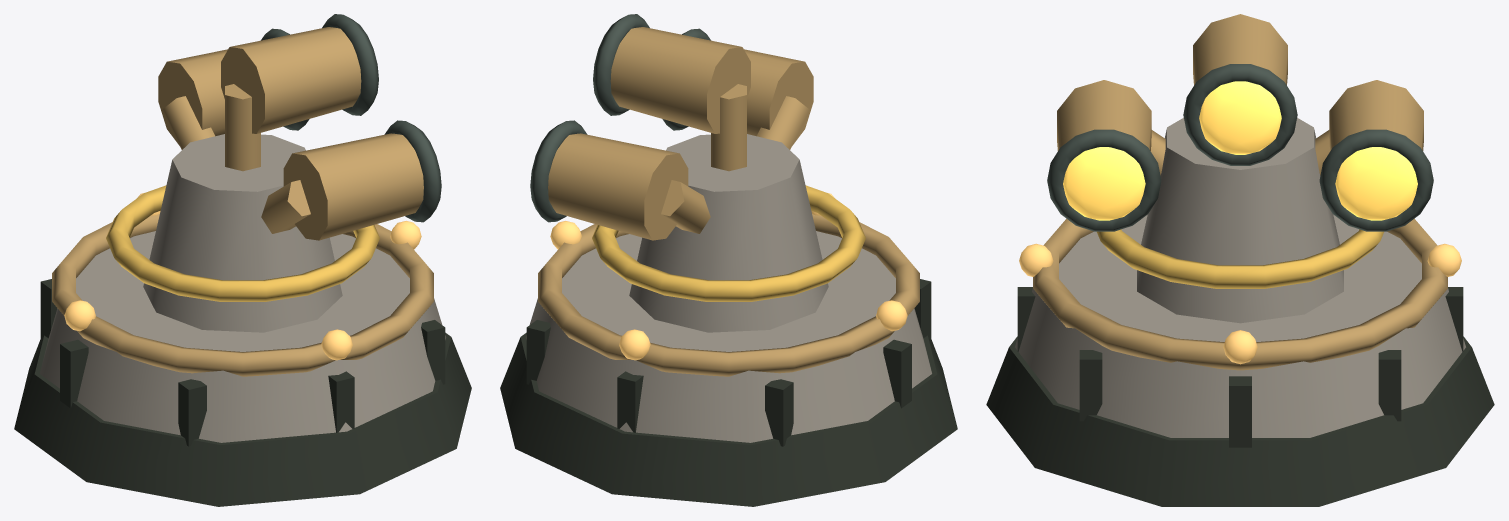
File: tower_laser_laserDouble_ultimate.glb
The picture shows the model from 3 angles, left to right: view 1: azimuth 30°, elevation 25°; view 2: azimuth 150°, elevation 25°; view 3: azimuth 270°, elevation 25°; orthographic projection. The views are drawn at different scales.
Visible parts, largest first — view 1: stone_1, foot_0, column_15, rim_2, lens_housing_17, lens_housing_21, energized_base_28, lens_housing_25, lens_arm_20, focus_ring_18, focus_ring_22, lens_arm_16 (+9 smaller); view 2: stone_1, foot_0, column_15, rim_2, lens_housing_25, lens_housing_21, energized_base_28, lens_housing_17, lens_arm_20, focus_ring_26, focus_ring_22, lens_arm_24 (+9 smaller); view 3: stone_1, foot_0, column_15, rim_2, energized_base_28, lens_glass_23, lens_glass_19, lens_glass_27, focus_ring_18, focus_ring_26, focus_ring_22, lens_housing_17 (+10 smaller).
Boxes of the visible parts, bbox=[...] form: stone_1: bbox=[40, 231, 445, 442]; foot_0: bbox=[14, 332, 471, 506]; column_15: bbox=[143, 134, 342, 332]; rim_2: bbox=[52, 214, 433, 376]; lens_housing_17: bbox=[283, 133, 423, 240]; lens_housing_21: bbox=[221, 27, 361, 133]; energized_base_28: bbox=[106, 185, 379, 301]; lens_housing_25: bbox=[158, 49, 227, 145]; lens_arm_20: bbox=[225, 84, 260, 171]; focus_ring_18: bbox=[384, 120, 441, 222]; focus_ring_22: bbox=[322, 14, 378, 115]; lens_arm_16: bbox=[261, 180, 310, 233]; stone_1: bbox=[526, 231, 931, 442]; foot_0: bbox=[500, 332, 957, 506]; column_15: bbox=[629, 134, 828, 332]; rim_2: bbox=[538, 214, 919, 376]; lens_housing_25: bbox=[548, 133, 688, 240]; lens_housing_21: bbox=[610, 27, 750, 133]; energized_base_28: bbox=[592, 185, 865, 301]; lens_housing_17: bbox=[744, 49, 813, 145]; lens_arm_20: bbox=[711, 84, 746, 171]; focus_ring_26: bbox=[530, 120, 587, 222]; focus_ring_22: bbox=[593, 14, 649, 115]; lens_arm_24: bbox=[661, 180, 710, 233]; stone_1: bbox=[1015, 214, 1465, 437]; foot_0: bbox=[986, 336, 1494, 506]; column_15: bbox=[1137, 117, 1343, 323]; rim_2: bbox=[1033, 219, 1447, 370]; energized_base_28: bbox=[1097, 229, 1383, 288]; lens_glass_23: bbox=[1199, 81, 1281, 154]; lens_glass_19: bbox=[1063, 147, 1145, 220]; lens_glass_27: bbox=[1335, 147, 1417, 220]; focus_ring_18: bbox=[1047, 129, 1161, 231]; focus_ring_26: bbox=[1319, 129, 1433, 231]; focus_ring_22: bbox=[1183, 64, 1297, 165]; lens_housing_17: bbox=[1057, 80, 1151, 150].
Size of the model in its own units: 0.5326 by 0.482 by 0.56.
